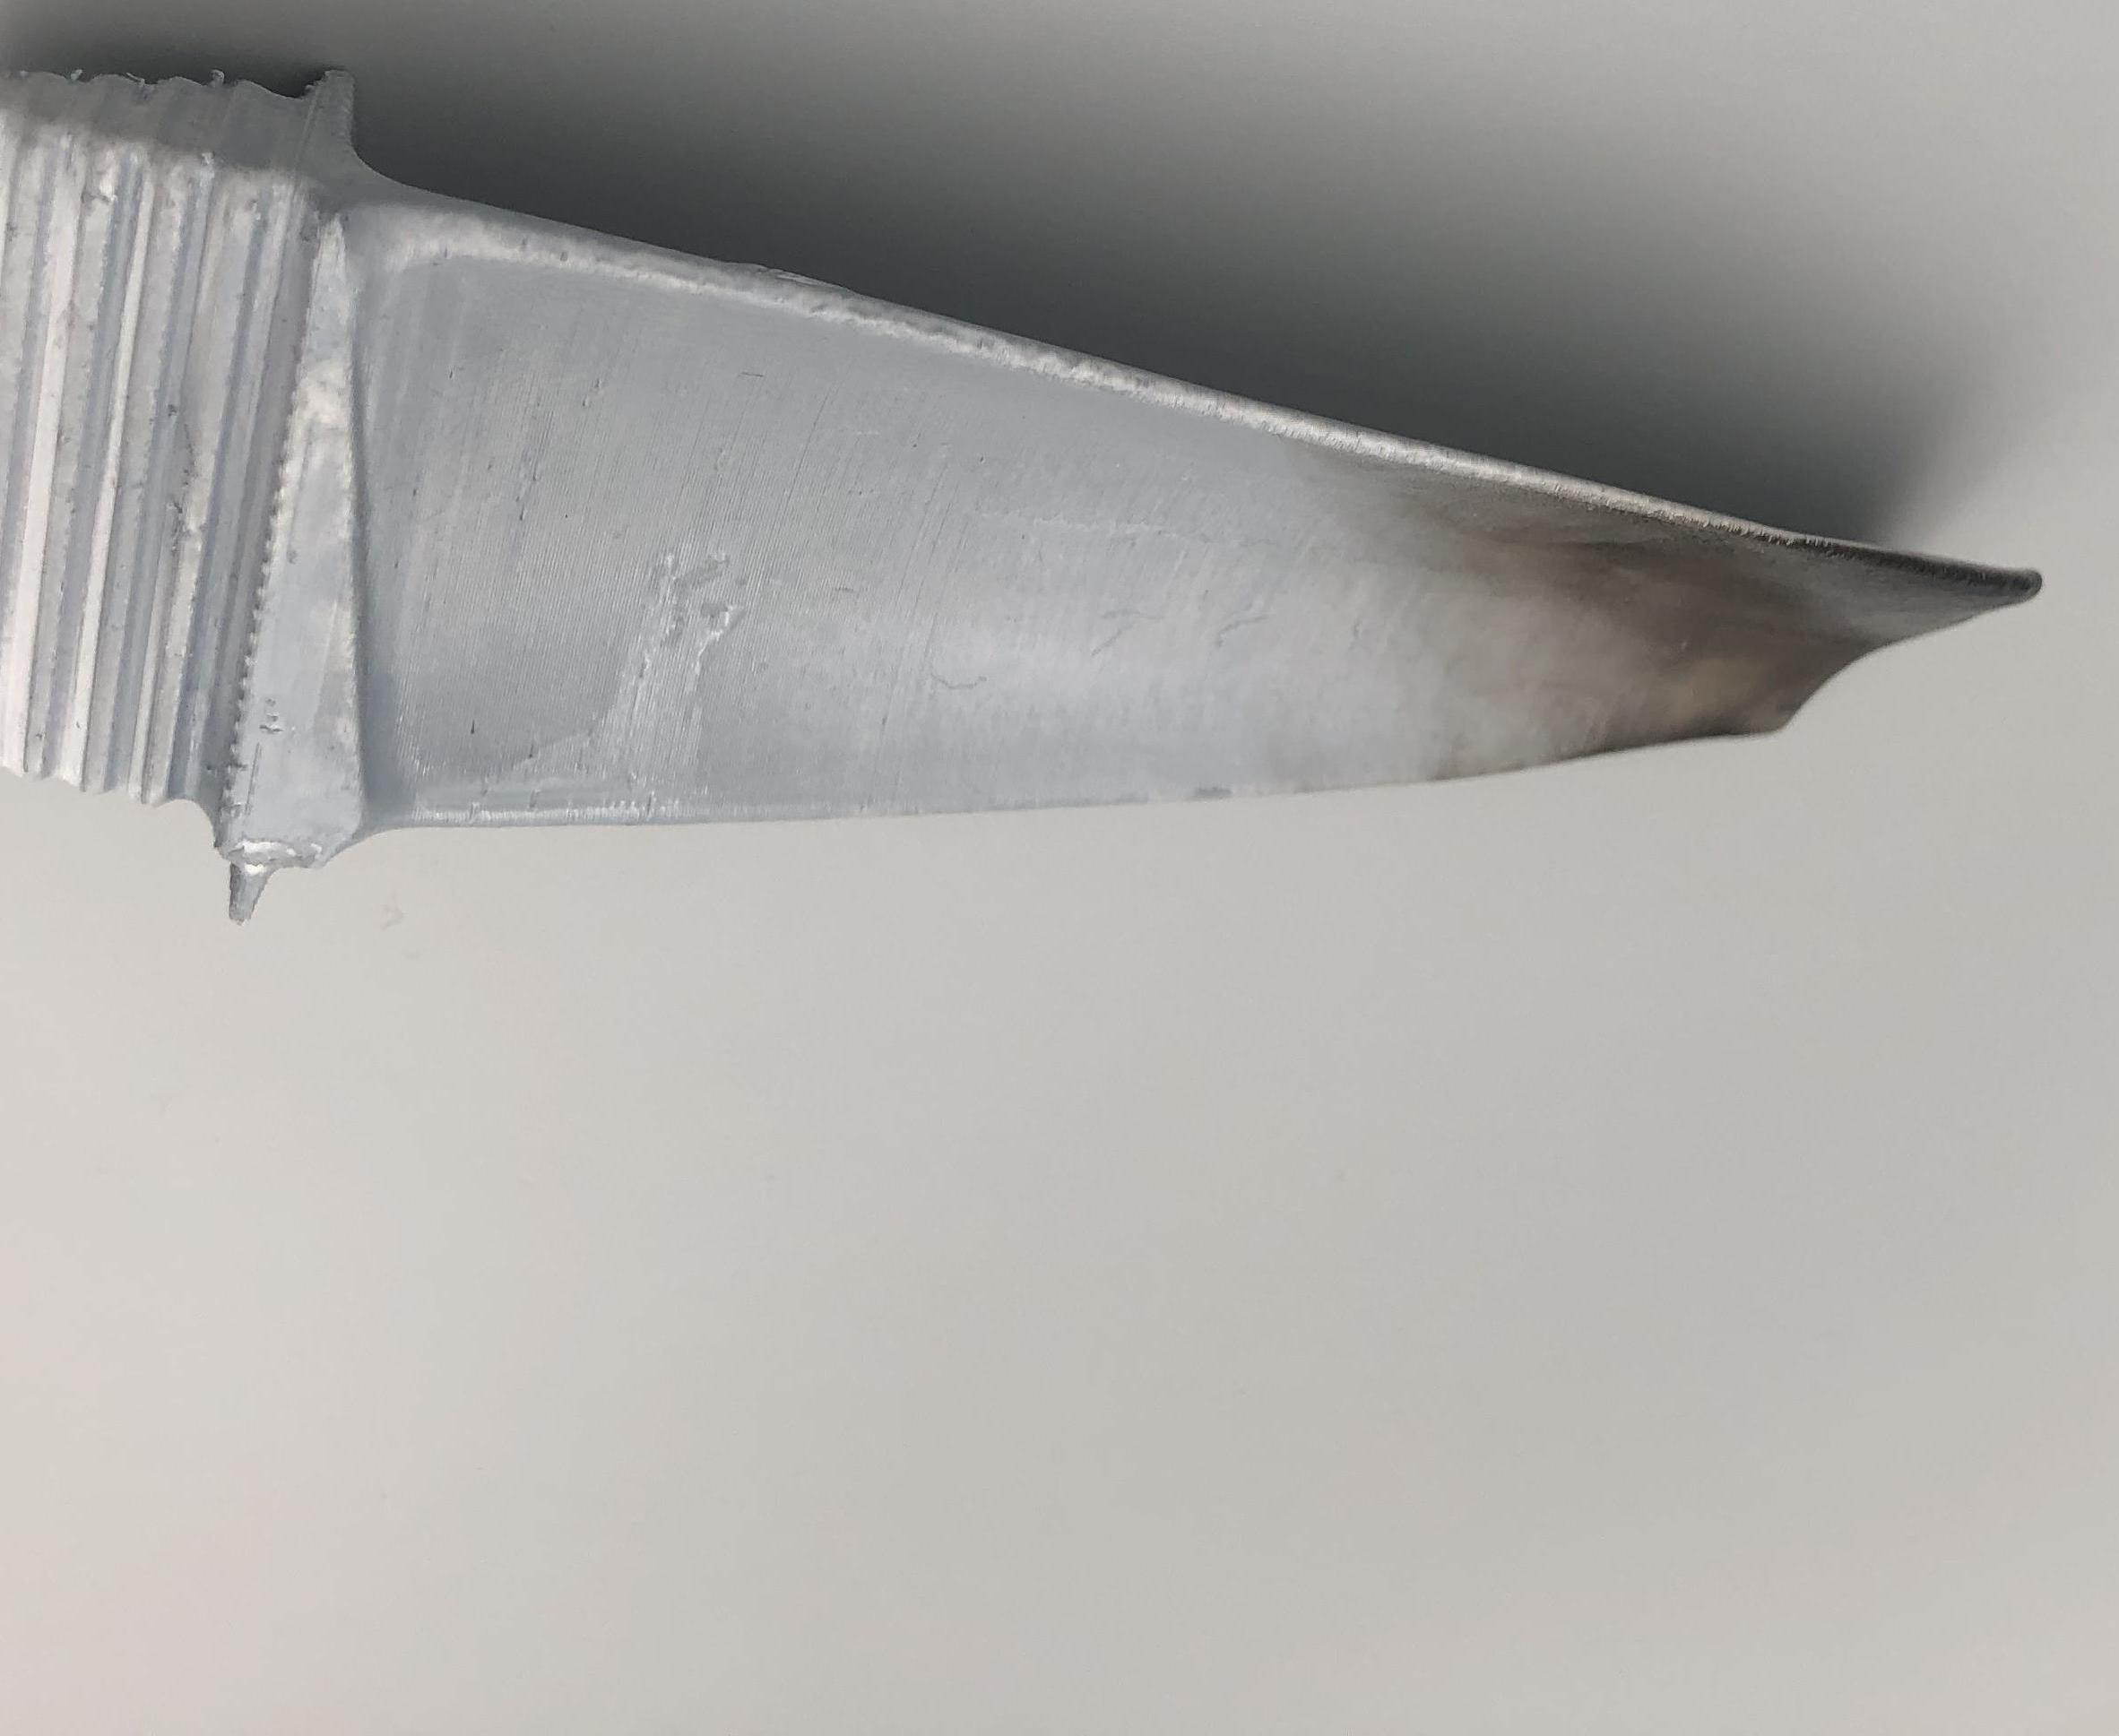ablation: (1558, 507, 1952, 733)
